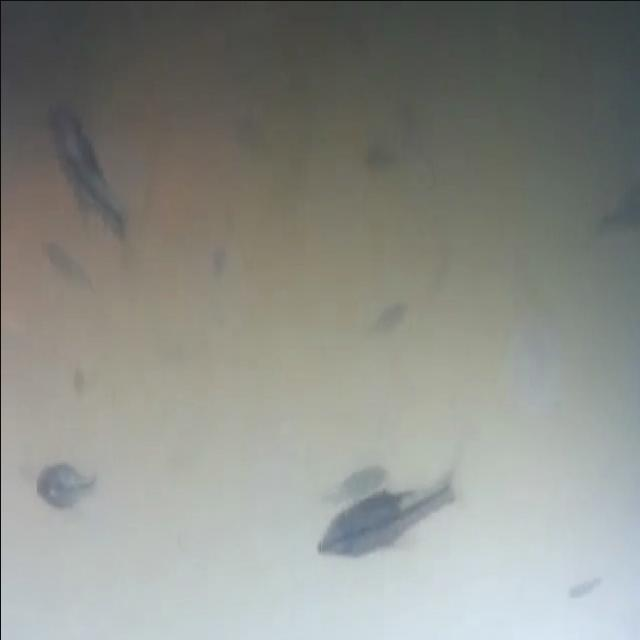Cakil Baligi: (305, 457, 469, 563), (40, 100, 130, 251)
